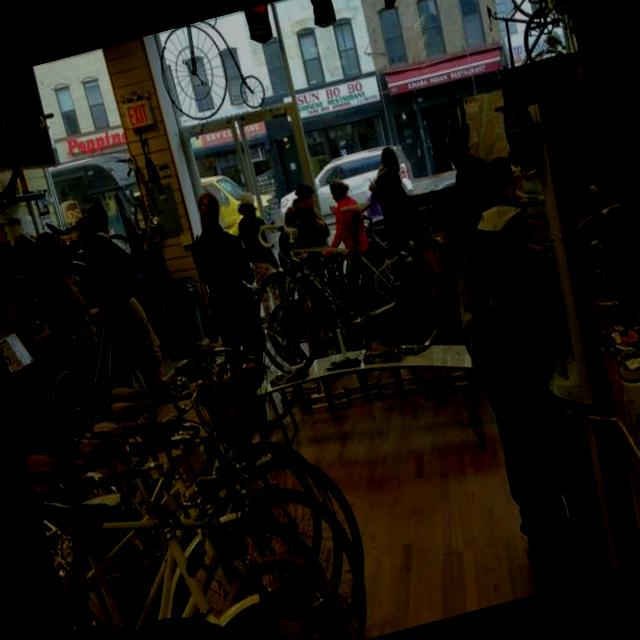Vehicle: (270, 138, 422, 228), (49, 148, 150, 252), (197, 168, 264, 240)
